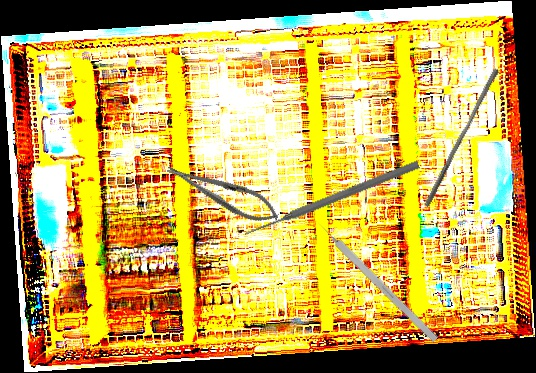Hook Surgical: (312, 217, 439, 343)
Needle Holder: (161, 153, 285, 232)
Pusher: (242, 158, 421, 240), (423, 65, 500, 211)
